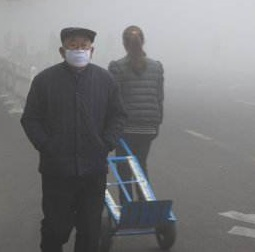person: (21, 25, 126, 252), (108, 24, 166, 201)
